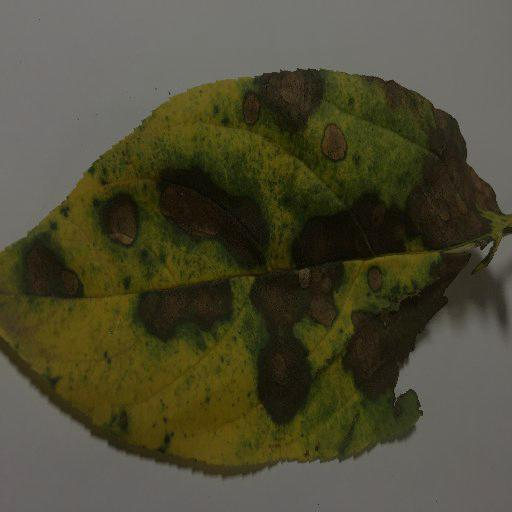Brown_Spot: (163, 172, 267, 270), (410, 130, 498, 237), (288, 199, 402, 258), (352, 306, 410, 388), (263, 334, 312, 427), (18, 243, 88, 297), (138, 293, 227, 332), (256, 76, 311, 125), (98, 190, 141, 249), (377, 81, 430, 122), (253, 278, 300, 324), (304, 282, 338, 324), (320, 121, 349, 164), (360, 263, 385, 293), (240, 93, 261, 119)
